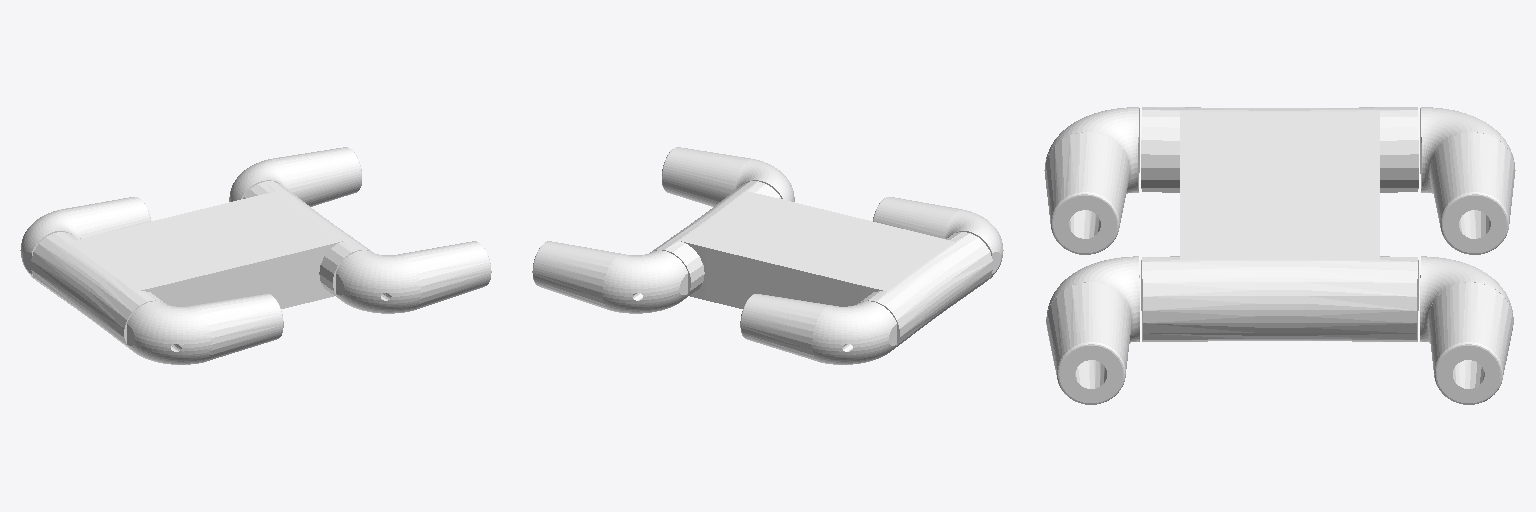
robot.urdf — 1_degree:
<?xml version="1.0" encoding="utf-8"?>
<!-- This URDF was automatically created by SolidWorks to URDF Exporter! Originally created by [author] ([email redacted]) 
     Commit Version: 1.5.1-0-g916b5db  Build Version: 1.5.7152.31018
     For more information, please see http://wiki.ros.org/sw_urdf_exporter -->
<robot
  name="1_degree">
  <link
    name="base_link">
    <inertial>
      <origin
        xyz="1.3878E-17 4.2619E-09 1.0408E-17"
        rpy="0 0 0" />
      <mass
        value="2.803" />
      <inertia
        ixx="0.010342931"
        ixy="4.614E-18"
        ixz="-8.8868E-11"
        iyy="0.034920497"
        iyz="-2.3069E-18"
        izz="0.042902019" />
    </inertial>
    <visual>
      <origin
        xyz="0 0 0"
        rpy="0 0 0" />
      <geometry>
        <mesh
          filename="package://1_degree/meshes/base_link.STL" />
      </geometry>
      <material
        name="">
        <color
          rgba="1 1 1 1" />
      </material>
    </visual>
    <collision>
      <origin
        xyz="0 0 0"
        rpy="0 0 0" />
      <geometry>
        <mesh
          filename="package://1_degree/meshes/base_link.STL" />
      </geometry>
    </collision>
  </link>
  <link
    name="left_fromt_link">
    <inertial>
      <origin
        xyz="-2.5147E-07 0.048585 -0.034768"
        rpy="0 0 0" />
      <mass
        value="0.0778" />
      <inertia
        ixx="0.000170999"
        ixy="6.6747E-10"
        ixz="4.2148E-10"
        iyy="0.000044926"
        iyz="1.5655E-05"
        izz="0.000169074" />
    </inertial>
    <visual>
      <origin
        xyz="0 0 0"
        rpy="0 0 0" />
      <geometry>
        <mesh
          filename="package://1_degree/meshes/left_fromt_link.STL" />
      </geometry>
      <material
        name="">
        <color
          rgba="1 1 1 1" />
      </material>
    </visual>
    <collision>
      <origin
        xyz="0 0 0"
        rpy="0 0 0" />
      <geometry>
        <mesh
          filename="package://1_degree/meshes/left_fromt_link.STL" />
      </geometry>
    </collision>
  </link>
  <joint
    name="left_front_leg"
    type="continuous">
    <origin
      xyz="0.1318 0.10298 0"
      rpy="1.5708 1.5708 0" />
    <parent
      link="base_link" />
    <child
      link="left_fromt_link" />
    <axis
      xyz="0 0.017452 -0.99985" />
    <limit
      effort="5"
      velocity="487" />
  </joint>
  <link
    name="right_front_link">
    <inertial>
      <origin
        xyz="2.5147E-07 0.048585 0.034768"
        rpy="0 0 0" />
      <mass
        value="0.0778" />
      <inertia
        ixx="0.000170999"
        ixy="-6.6747E-10"
        ixz="4.2148E-10"
        iyy="0.000044926"
        iyz="-1.5655E-05"
        izz="0.000169074" />
    </inertial>
    <visual>
      <origin
        xyz="0 0 0"
        rpy="0 0 0" />
      <geometry>
        <mesh
          filename="package://1_degree/meshes/right_front_link.STL" />
      </geometry>
      <material
        name="">
        <color
          rgba="1 1 1 1" />
      </material>
    </visual>
    <collision>
      <origin
        xyz="0 0 0"
        rpy="0 0 0" />
      <geometry>
        <mesh
          filename="package://1_degree/meshes/right_front_link.STL" />
      </geometry>
    </collision>
  </link>
  <joint
    name="right_front_leg"
    type="continuous">
    <origin
      xyz="0.1318 -0.10298 0"
      rpy="1.5708 1.5708 0" />
    <parent
      link="base_link" />
    <child
      link="right_front_link" />
    <axis
      xyz="0 0.017452 0.99985" />
    <limit
      effort="5"
      velocity="487" />
  </joint>
  <link
    name="right_back_link">
    <inertial>
      <origin
        xyz="2.137E-07 0.04797 0.03561"
        rpy="0 0 0" />
      <mass
        value="0.0778" />
      <inertia
        ixx="0.000170999"
        ixy="-6.5474E-10"
        ixz="5.7089E-10"
        iyy="0.000045510"
        iyz="-1.7812E-05"
        izz="0.000168490" />
    </inertial>
    <visual>
      <origin
        xyz="0 0 0"
        rpy="0 0 0" />
      <geometry>
        <mesh
          filename="package://1_degree/meshes/right_back_link.STL" />
      </geometry>
      <material
        name="">
        <color
          rgba="1 1 1 1" />
      </material>
    </visual>
    <collision>
      <origin
        xyz="0 0 0"
        rpy="0 0 0" />
      <geometry>
        <mesh
          filename="package://1_degree/meshes/right_back_link.STL" />
      </geometry>
    </collision>
  </link>
  <joint
    name="right_back_leg"
    type="continuous">
    <origin
      xyz="-0.1318 -0.10298 0"
      rpy="1.5882 1.5708 0" />
    <parent
      link="base_link" />
    <child
      link="right_back_link" />
    <axis
      xyz="0 0 1" />
    <limit
      effort="5"
      velocity="487" />
  </joint>
  <link
    name="left_back_link">
    <inertial>
      <origin
        xyz="-2.137E-07 0.047342 -0.036442"
        rpy="0 0 0" />
      <mass
        value="0.0778" />
      <inertia
        ixx="0.000170999"
        ixy="6.646E-10"
        ixz="5.5938E-10"
        iyy="0.000046169"
        iyz="1.9947E-05"
        izz="0.000167831" />
    </inertial>
    <visual>
      <origin
        xyz="0 0 0"
        rpy="0 0 0" />
      <geometry>
        <mesh
          filename="package://1_degree/meshes/left_back_link.STL" />
      </geometry>
      <material
        name="">
        <color
          rgba="1 1 1 1" />
      </material>
    </visual>
    <collision>
      <origin
        xyz="0 0 0"
        rpy="0 0 0" />
      <geometry>
        <mesh
          filename="package://1_degree/meshes/left_back_link.STL" />
      </geometry>
    </collision>
  </link>
  <joint
    name="left_back_leg"
    type="continuous">
    <origin
      xyz="-0.1318 0.10298 0"
      rpy="1.5708 1.5708 0" />
    <parent
      link="base_link" />
    <child
      link="left_back_link" />
    <axis
      xyz="0 -0.017452 -0.99985" />
    <limit
      effort="5"
      velocity="487" />
  </joint>
</robot>

--- Facts derived from the render (not from the file) ---
3 views of the same robot in one strip: view 1: azimuth 30°, elevation 25°; view 2: azimuth 150°, elevation 25°; view 3: azimuth 270°, elevation 25° (orthographic).
Robot: 1_degree — 5 links, 4 joints (4 continuous); root link base_link; default pose: every joint at zero.
Visible links, largest first — view 1: base_link, right_back_link, right_front_link, left_fromt_link, left_back_link; view 2: base_link, left_back_link, left_fromt_link, right_front_link, right_back_link; view 3: base_link, right_back_link, left_back_link, right_front_link, left_fromt_link.
Link boxes in pixels (<box>): base_link: <box>31,181,371,349</box>; right_back_link: <box>127,294,283,364</box>; right_front_link: <box>336,241,491,313</box>; left_fromt_link: <box>229,147,361,206</box>; left_back_link: <box>20,197,150,281</box>; base_link: <box>652,181,992,349</box>; left_back_link: <box>740,294,896,364</box>; left_fromt_link: <box>532,241,687,313</box>; right_front_link: <box>662,147,794,206</box>; right_back_link: <box>873,197,1003,281</box>; base_link: <box>1141,107,1418,341</box>; right_back_link: <box>1044,107,1139,254</box>; left_back_link: <box>1420,107,1515,254</box>; right_front_link: <box>1046,256,1139,404</box>; left_fromt_link: <box>1420,256,1513,404</box>.
Size in the robot's own frame: 0.4288 by 0.3517 by 0.064 metres.
Meshes: 5 distinct files referenced, 5 mesh visuals loaded (5 binary STL).